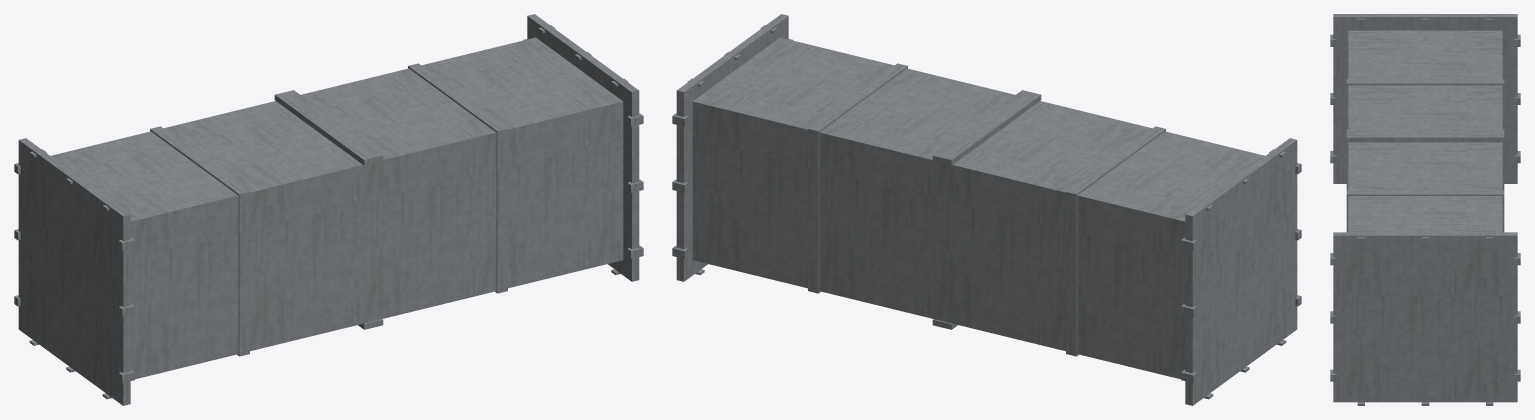
The model's file is condotto.glb.
3 renders of one model, left to right at view 1: azimuth 30°, elevation 25°; view 2: azimuth 150°, elevation 25°; view 3: azimuth 270°, elevation 25°, orthographic. The views are drawn at different scales.
Parts seen in each view (by area): view 1: duct; view 2: duct; view 3: duct.
Part boxes in pixels (x1,y1,x2,y2): duct: (14,14,643,405); duct: (672,14,1301,405); duct: (1330,14,1520,405).
Bounding box in the file's own units: 495 × 174 × 178.
1 material, 1 textured.
